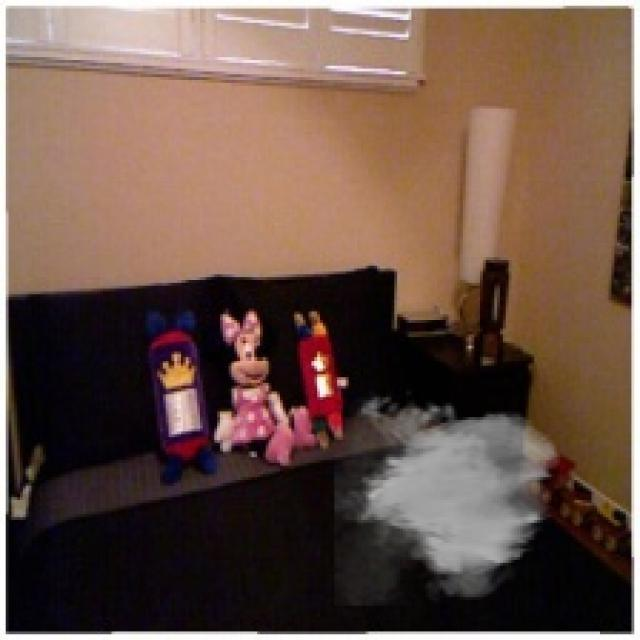Smoke: (334, 388, 563, 606)
